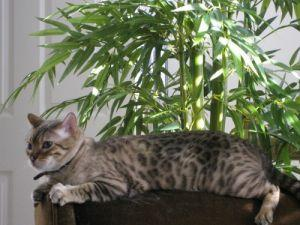bengal: (22, 112, 83, 177)
